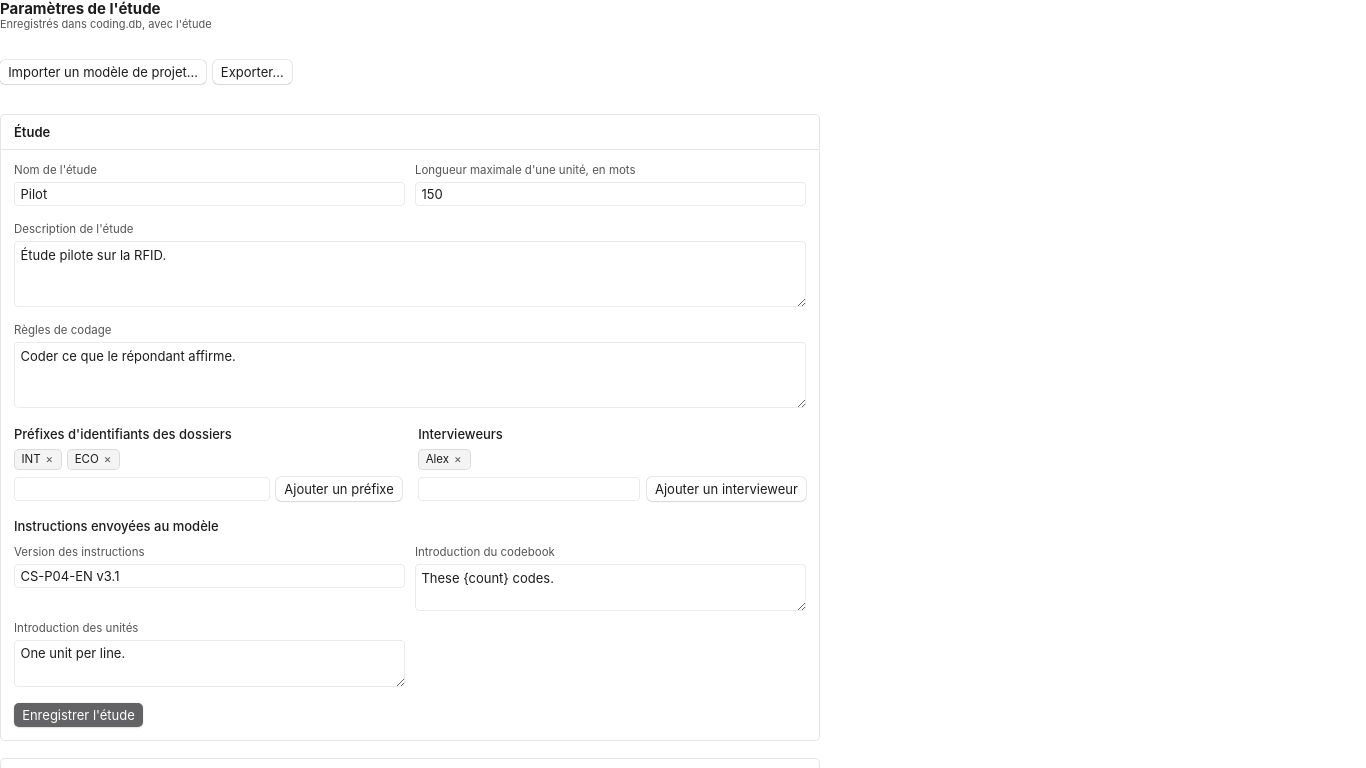
Test case: study configuration form › asks to force a save refused by the guard, and re-sends with force=true
expect the field showing "Pilot" is shown: met, box [14,182,405,206]
Click the button "Enregistrer l'étude".
click(78, 715)  # box [14,703,143,727]
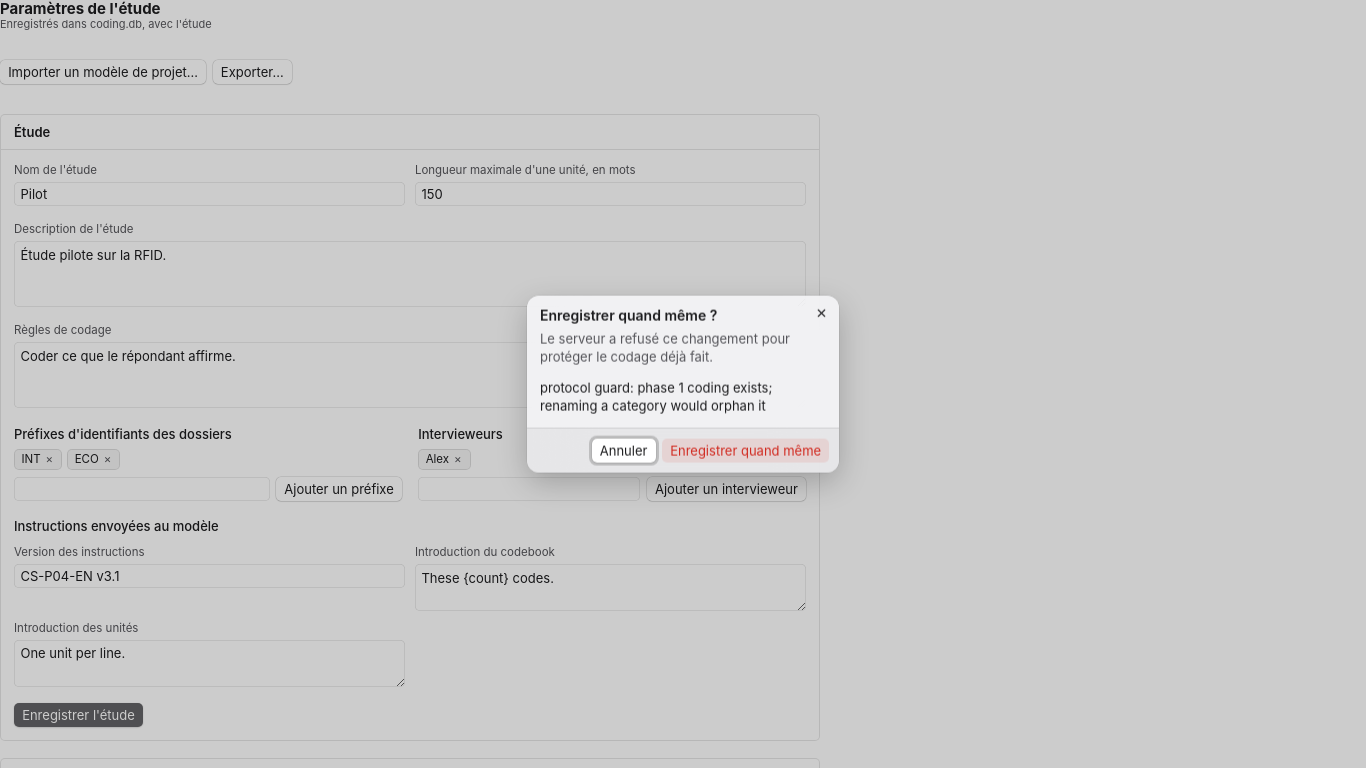
expect the dialog shows "protocol guard: phase 1 coding exists; renaming a category would orphan it": met, box [540,380,772,414]
Click the button "Enregistrer quand même".
click(746, 451)  # box [662,439,829,463]
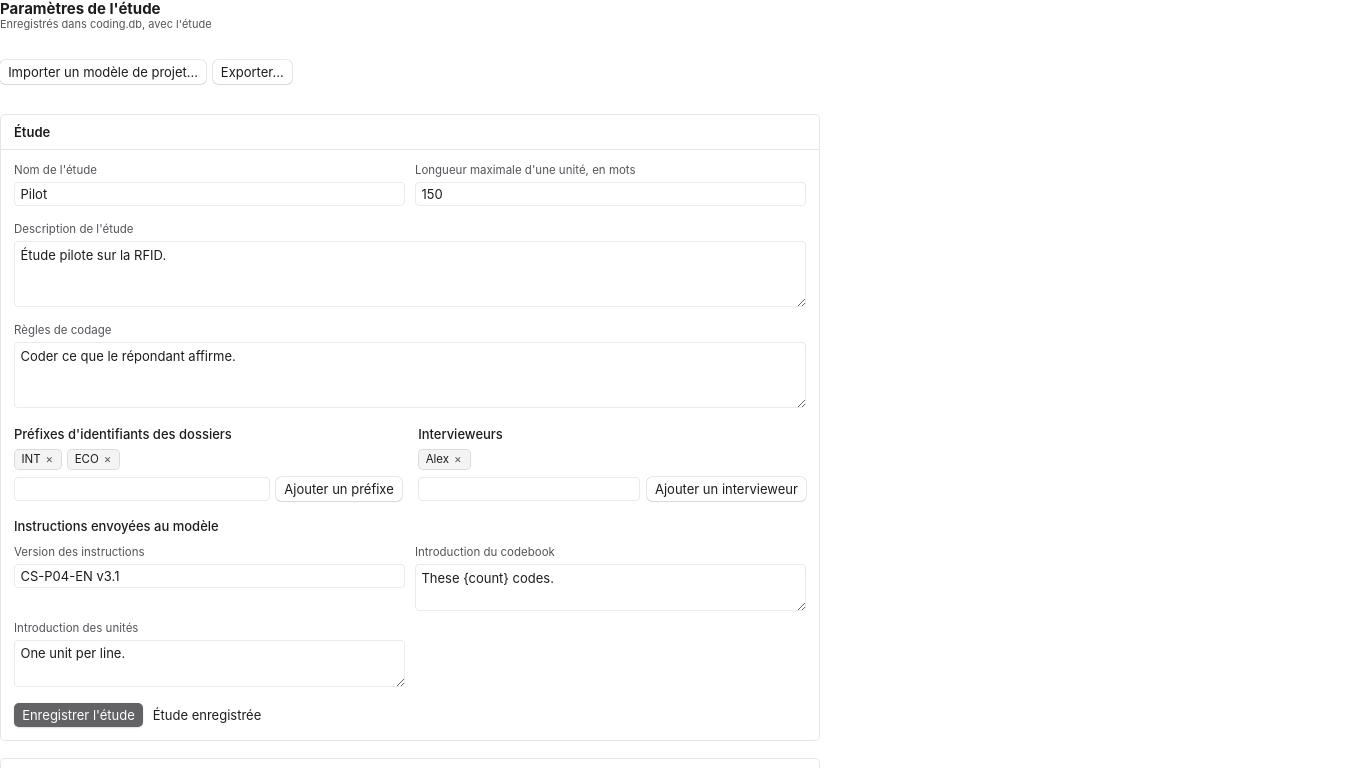
expect the text "Étude enregistrée" is shown: met, box [153,706,261,724]
